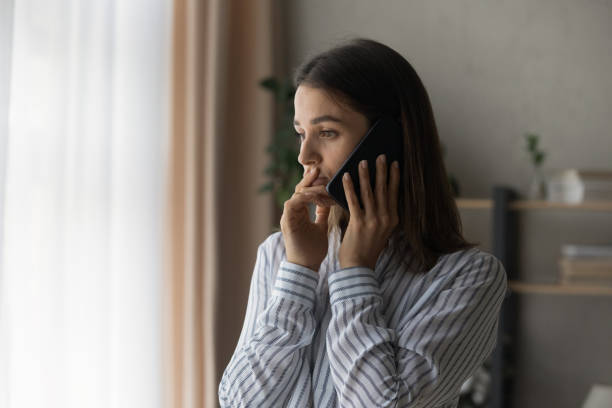without mask: (285, 84, 379, 204)
